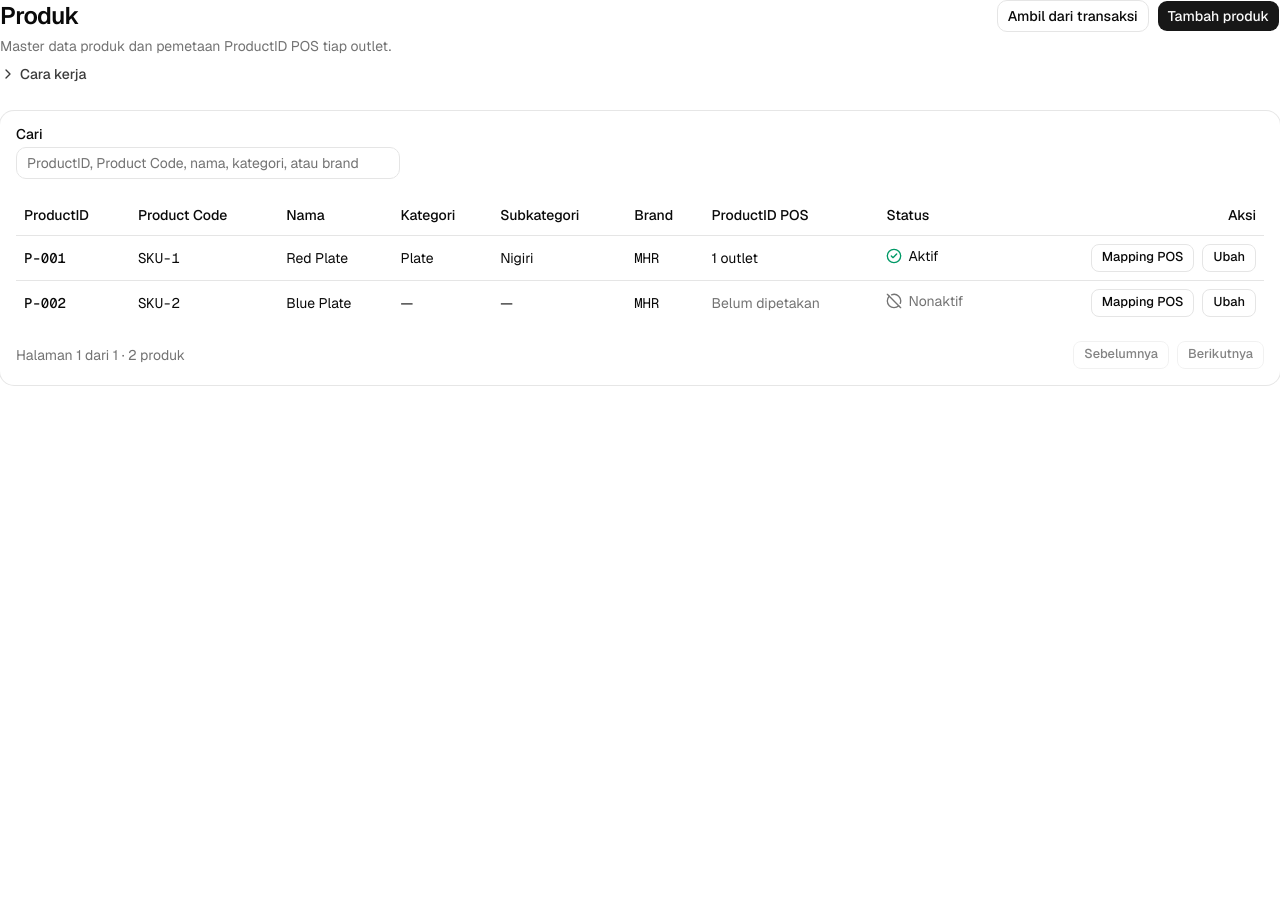
Test: ProductsView — tambah produk › validasi lokal: ProductID, Product Code, nama, dan brand wajib
expect the text "Red Plate" is shown: met, box [278,235,393,280]
Step 1. Click the button "Tambah produk" → click(1218, 16), box [1157,0,1279,32]
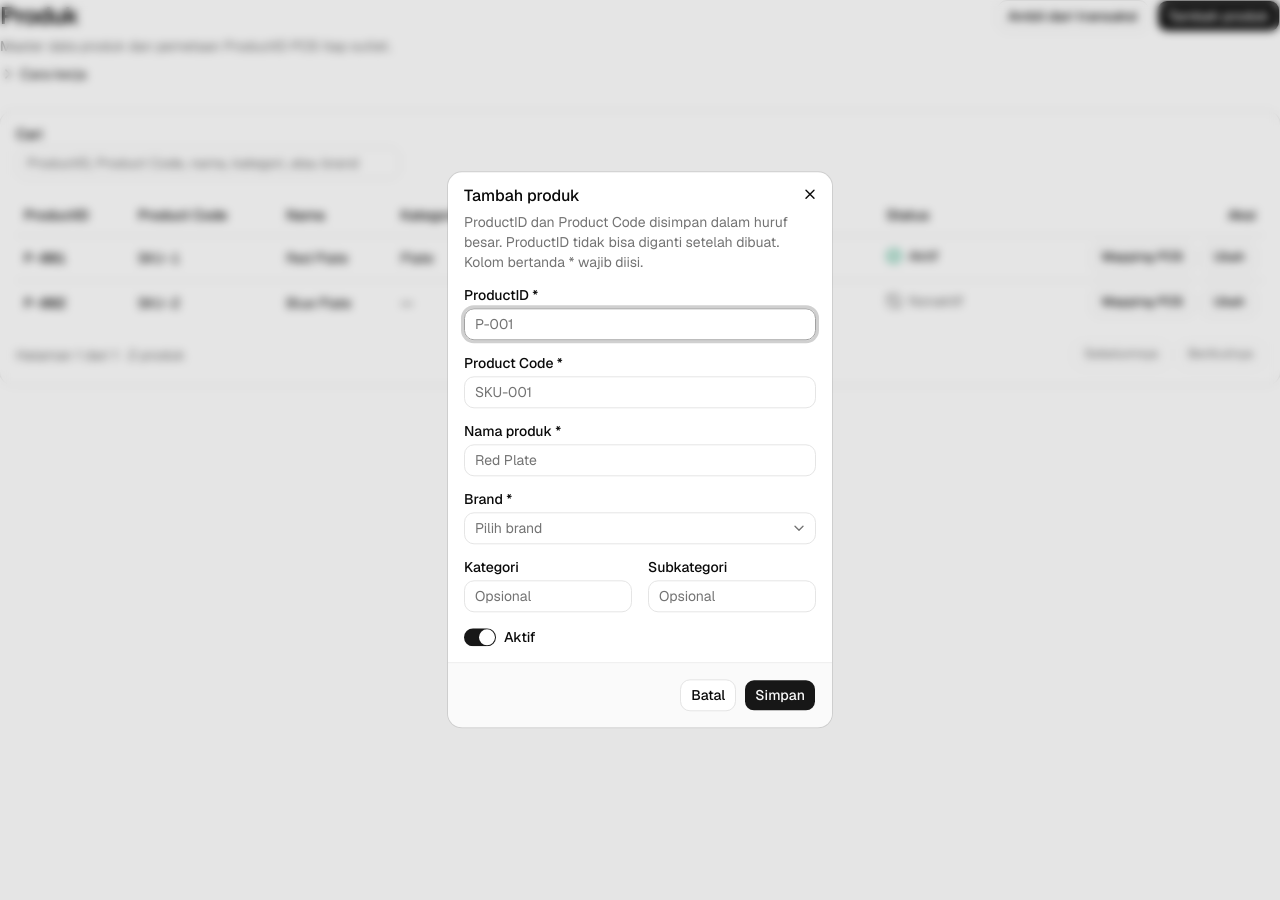
Step 2. Click the button "Simpan" → click(780, 696), box [744,680,816,712]
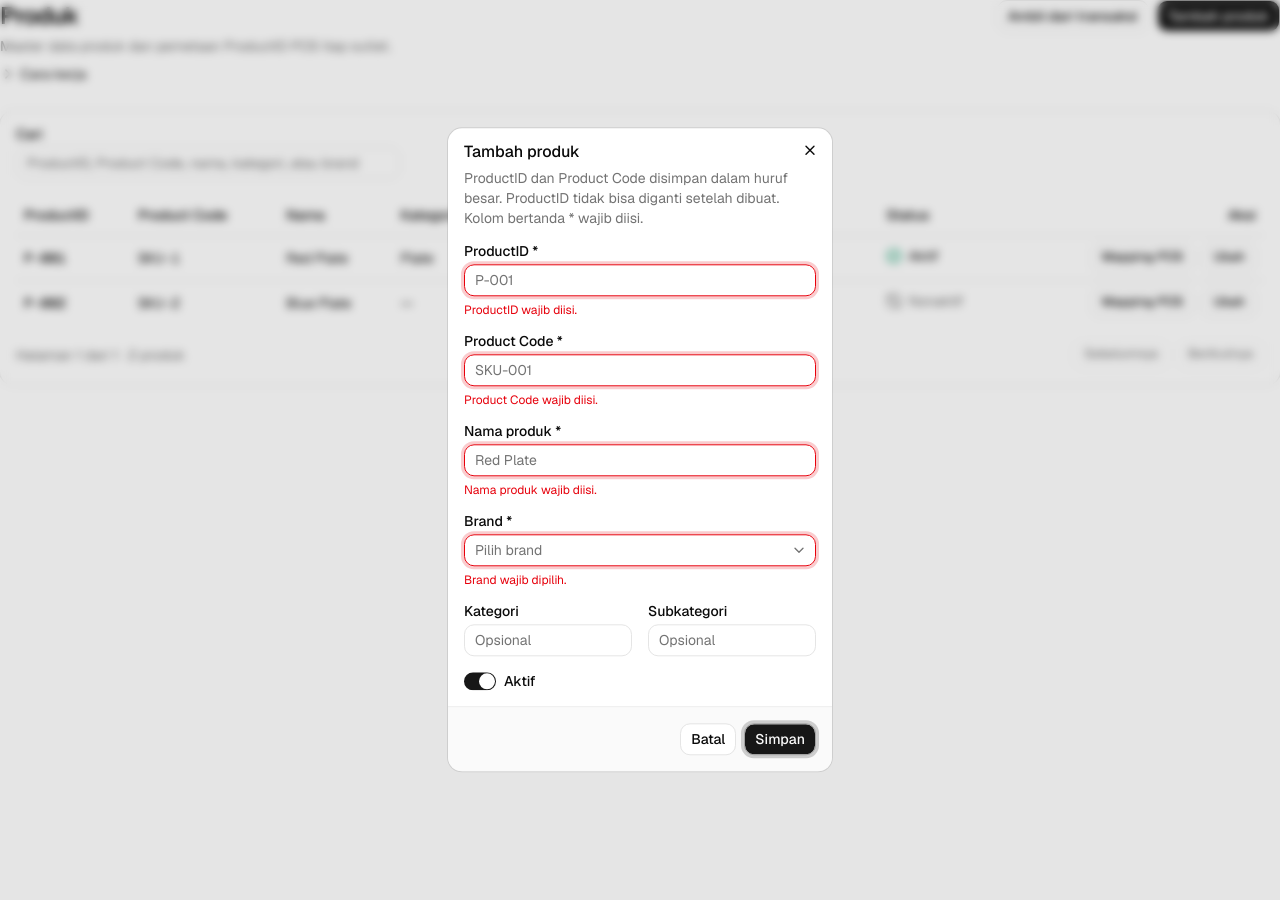
expect the text "ProductID wajib diisi." is shown: met, box [464,302,577,318]
expect the text "Product Code wajib diisi." is shown: met, box [464,392,598,408]
expect the text "Nama produk wajib diisi." is shown: met, box [464,482,597,498]
